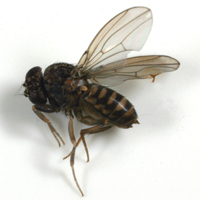phorid fly: (10, 3, 184, 198)
